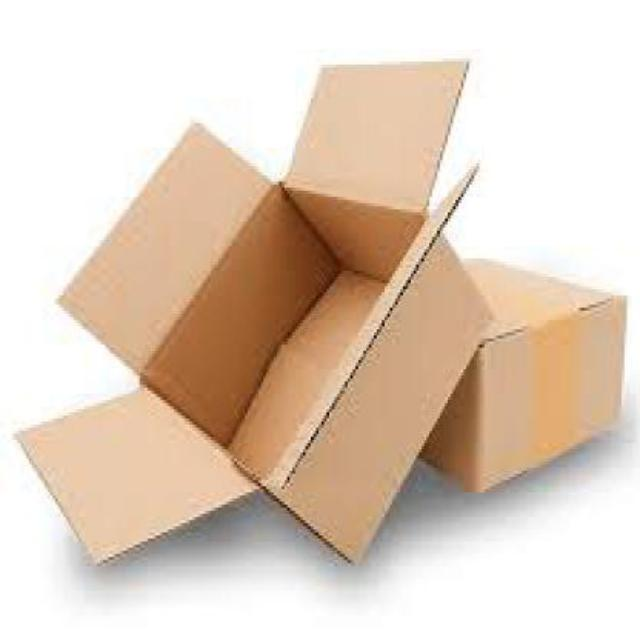cardboard_box: (41, 44, 482, 586), (382, 264, 628, 488)
